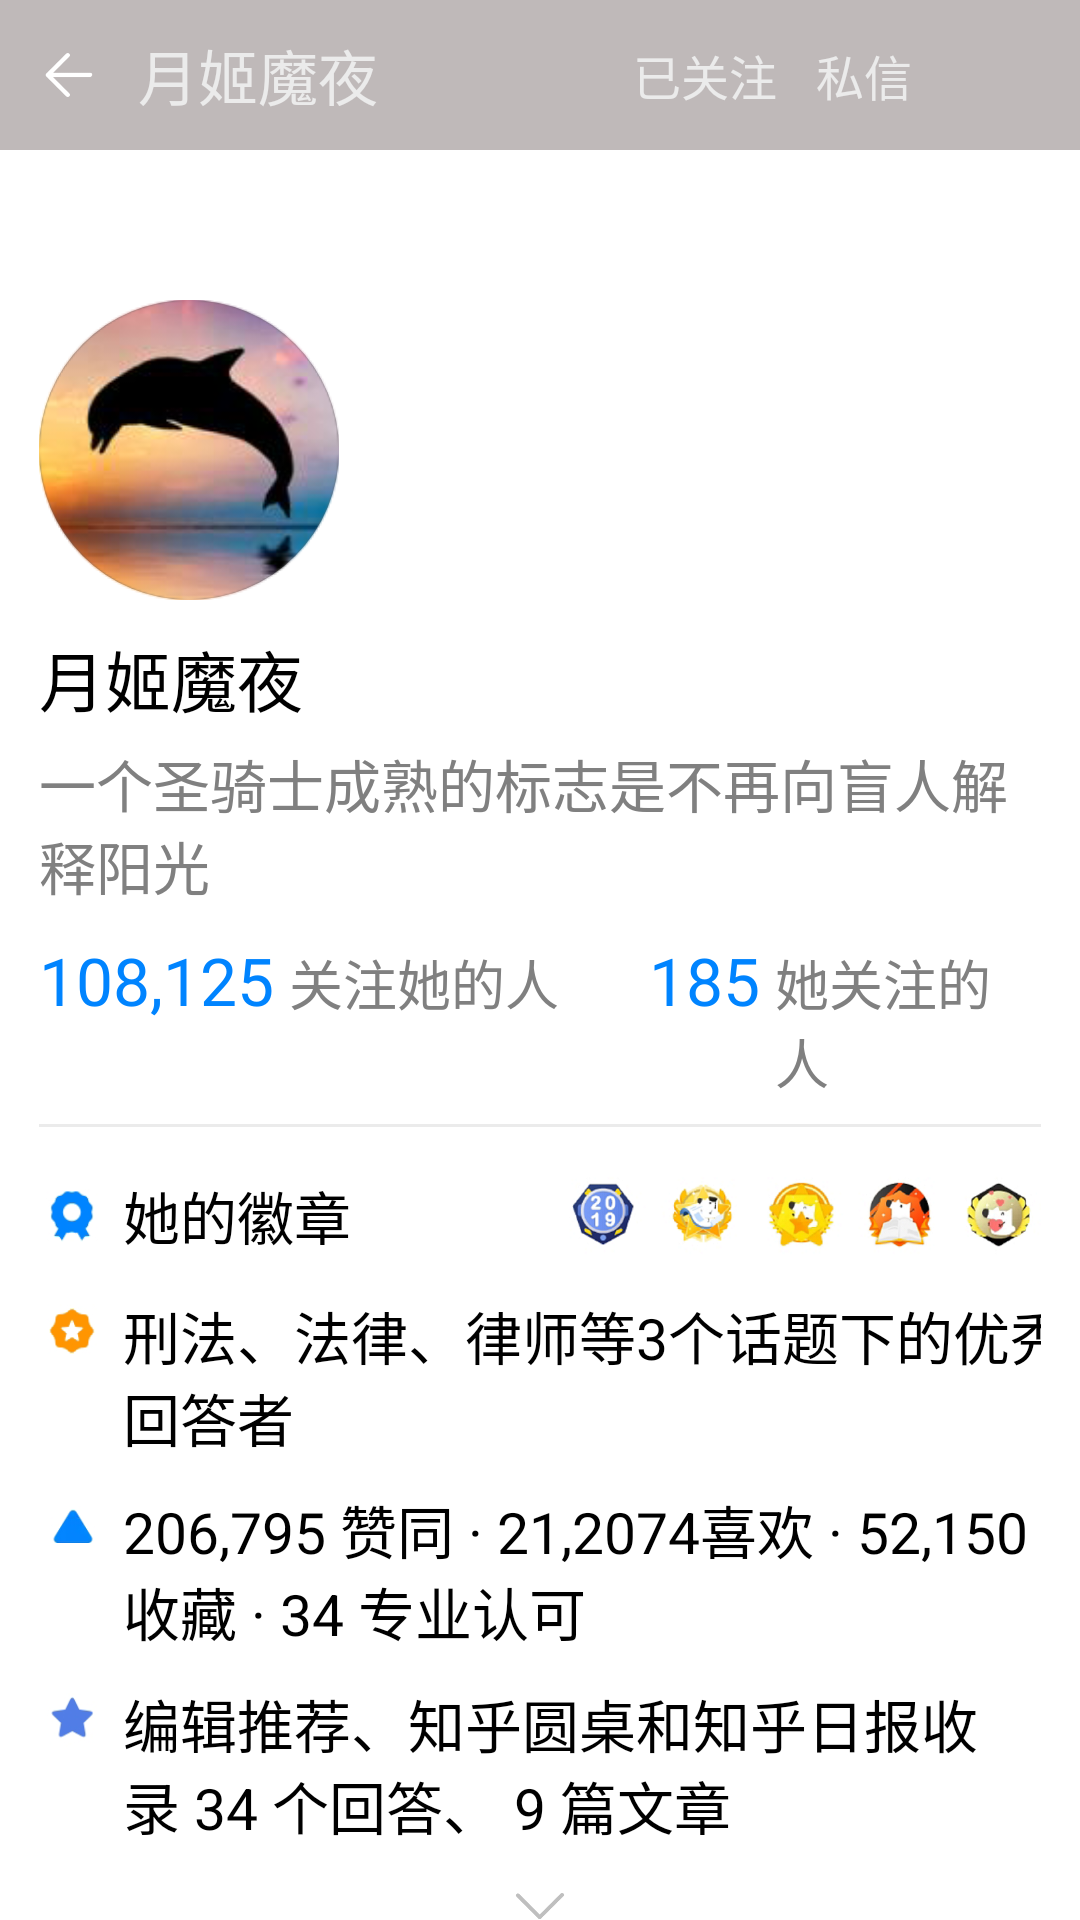

Point at icon controls on the screen. Image size 1080x1920, points as (x,y).
userinfo badge: (71,1216)
userinfo head: (189,450)
userinfo star: (72,1331), (72,1717)
userinfo triangle: (73,1526)
